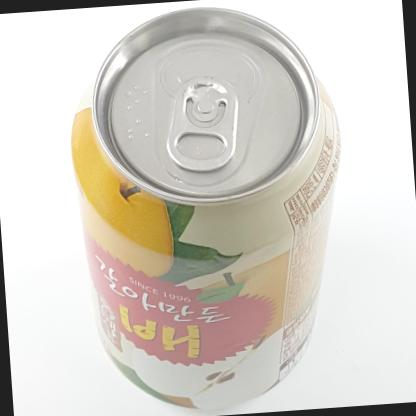alumunium_can: (48, 0, 366, 416)
